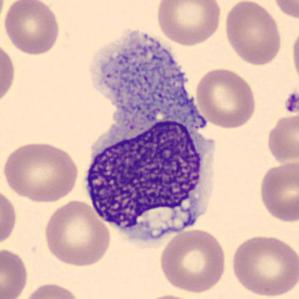Monocyte: (78, 13, 219, 242)
Platelets: (282, 89, 298, 116)
RBC: (0, 138, 80, 203), (42, 198, 113, 268), (157, 227, 228, 293), (229, 232, 298, 298), (222, 0, 284, 67), (194, 65, 258, 129), (1, 0, 61, 57), (154, 0, 223, 47), (257, 160, 298, 224), (264, 112, 299, 164), (0, 245, 30, 299), (0, 185, 18, 250), (0, 39, 17, 106), (21, 281, 82, 299), (289, 24, 299, 85), (270, 0, 299, 21), (140, 292, 201, 299), (0, 0, 6, 34)
